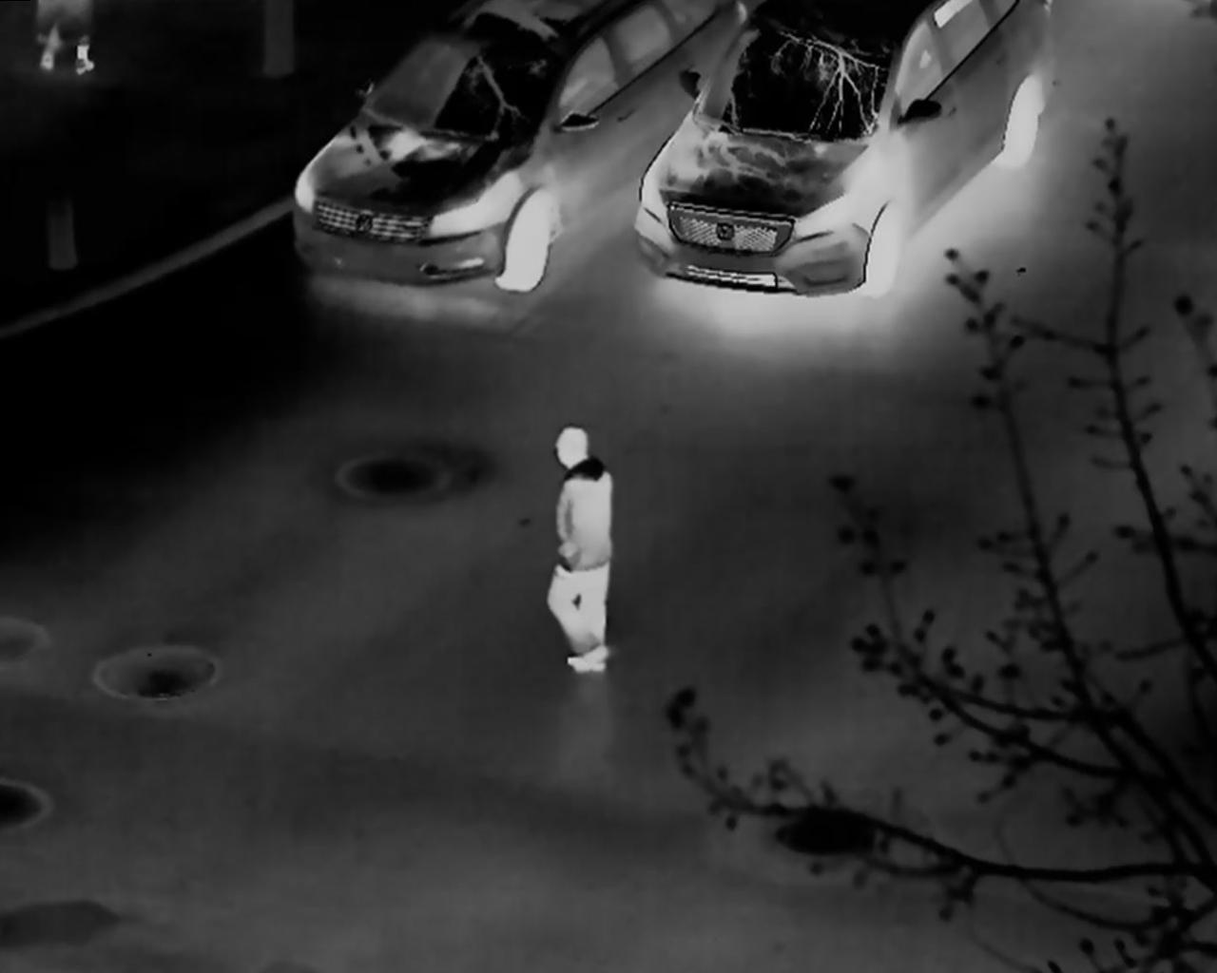person: (544, 424, 613, 677)
